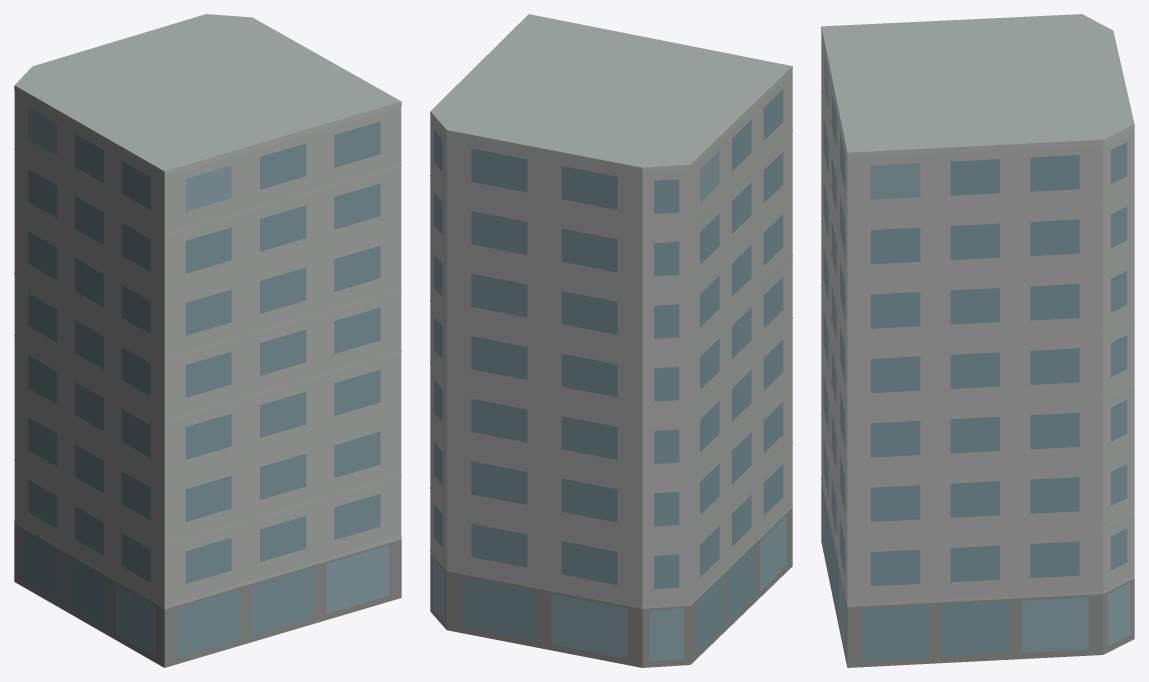
The model's file is survey-upis-32979535.glb.
The picture shows the model from 3 angles, left to right: view 1: azimuth 30°, elevation 25°; view 2: azimuth 150°, elevation 25°; view 3: azimuth 270°, elevation 25°; orthographic projection. The views are drawn at different scales.
Visible parts, largest first — view 1: survey-upis-32979535.tmp; view 2: survey-upis-32979535.tmp; view 3: survey-upis-32979535.tmp.
Boxes of the visible parts, left/top/right/bottom form: survey-upis-32979535.tmp: left=14, top=14, right=401, bottom=667; survey-upis-32979535.tmp: left=430, top=14, right=792, bottom=667; survey-upis-32979535.tmp: left=821, top=14, right=1134, bottom=667.
Size of the model in its own units: 13.39 by 23.15 by 12.77.
